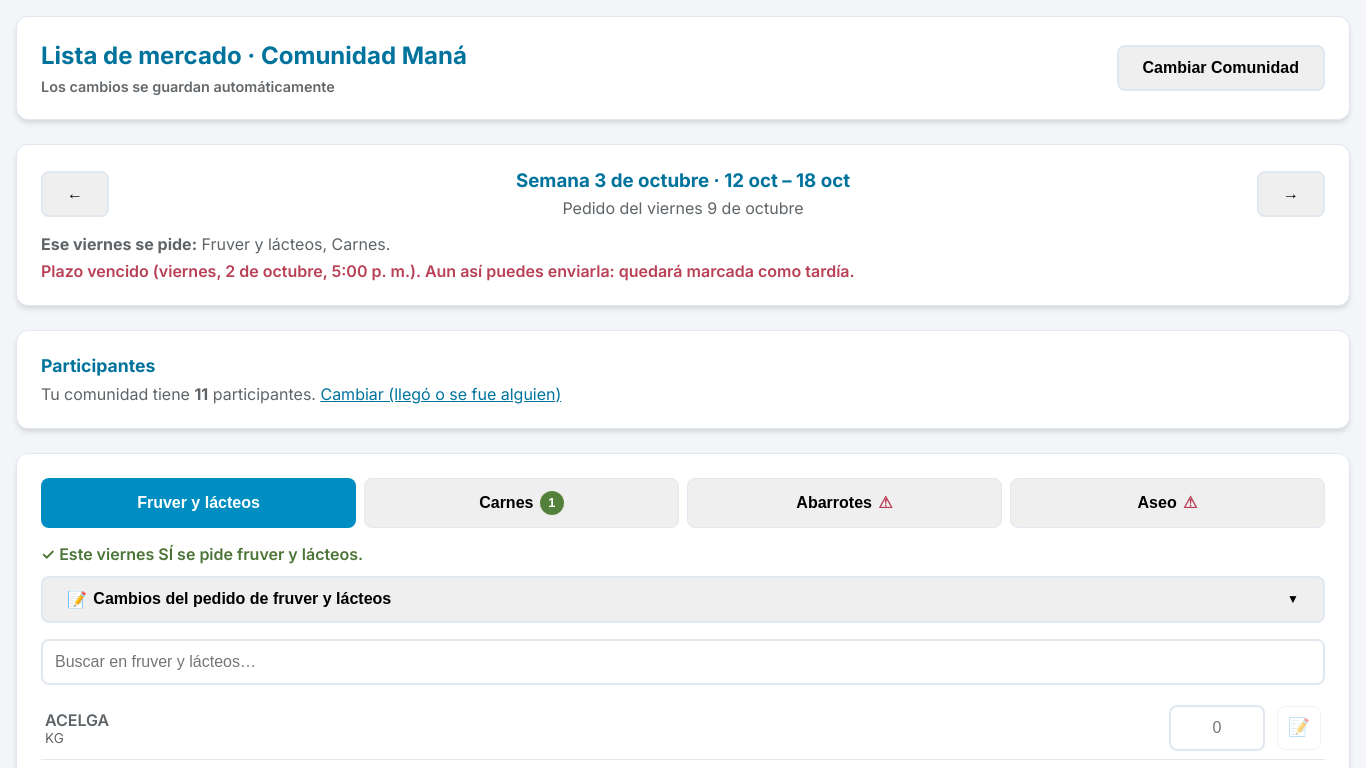
Test: lista de mercado de la comunidad: toasts › escribir una cantidad y que se guarde sola NO da toast (para eso está «✓ Todos los cambios guardados»)
Type "3" into the field labelled "ACELGA KG" at x=1217, y=728, box [1169,705,1265,751]
Wait 700 ms
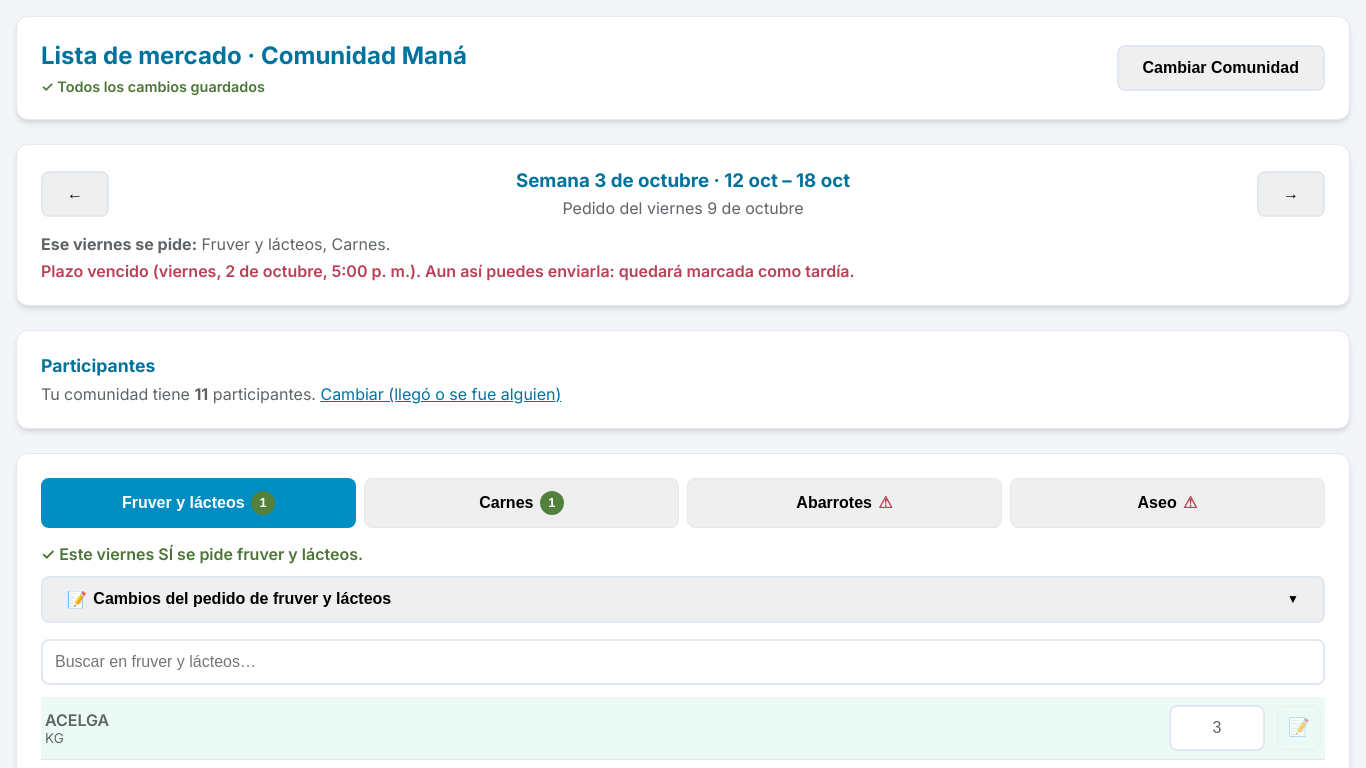
Expected: the text "✓ Todos los cambios guardados" is shown, [41,78,265,95]
